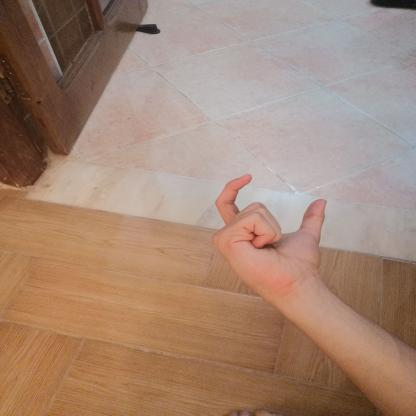NOON: (194, 165, 338, 304)
